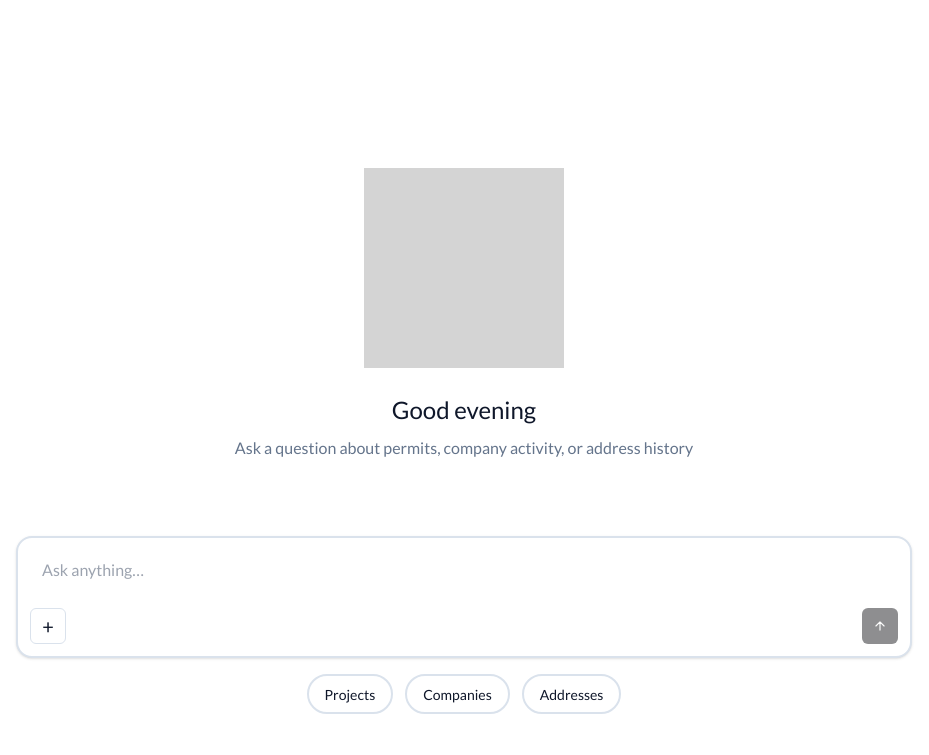
it: ChatWindow › hides presets when user starts typing
Expected: the text box named "Chat message input" is shown, [30,550,898,594]
Click scope button to show presets
Click the button "Projects": click(350, 694) [306,674,393,714]
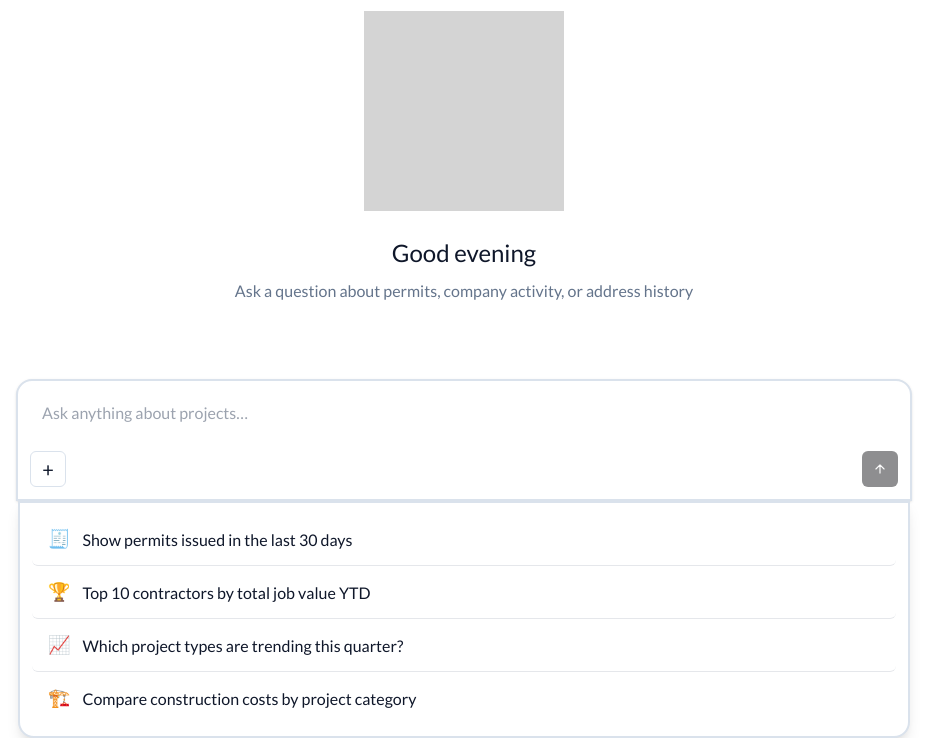
Expected: the text "Show permits issued in the last 30 days" is shown, [82,530,352,549]
Type in the input
In the text box named "Chat message input": (464, 415) [30,393,898,437], type "test"
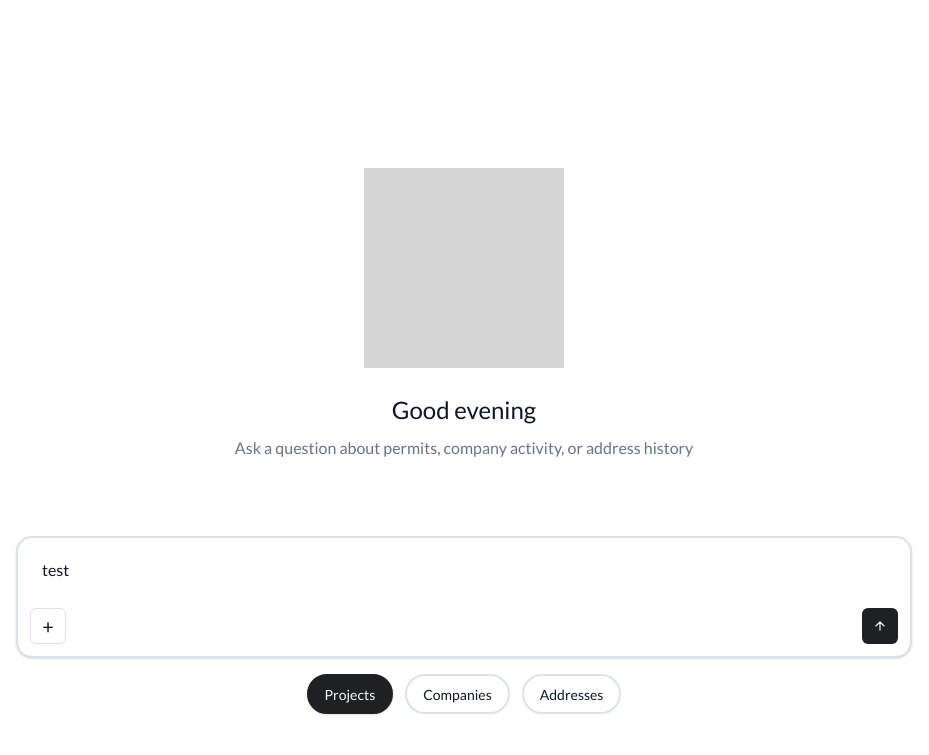
Expected: the button "Show permits issued in the last 30 days" is gone
